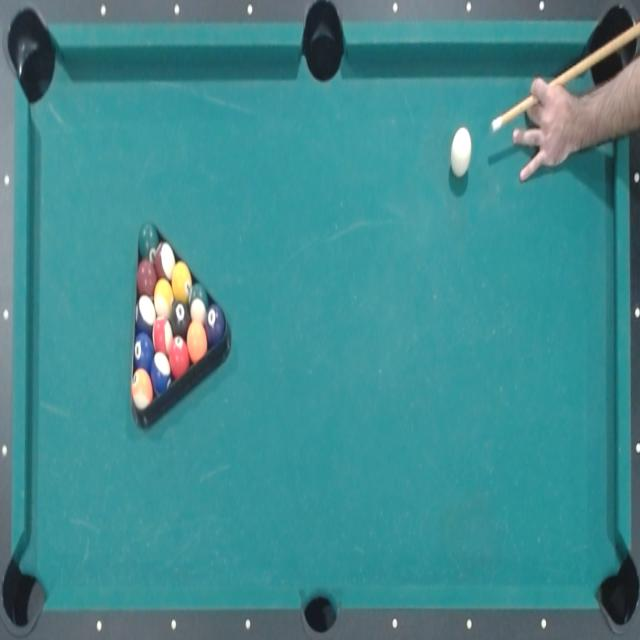black_8ball: (170, 299, 189, 339)
blue_solid: (133, 331, 154, 371)
blue_stripe: (149, 351, 172, 399)
cue_ball: (448, 122, 474, 182)
cue_body: (507, 8, 640, 141)
cue_tip: (489, 114, 503, 136)
green_solid: (136, 222, 160, 260)
green_stripe: (188, 282, 210, 323)
maroon_solid: (135, 262, 159, 298)
maroon_stripe: (156, 243, 174, 282)
orange_solid: (186, 322, 208, 361)
orange_stripe: (130, 367, 153, 408)
player_hand: (508, 76, 590, 190)
purple_solid: (205, 306, 225, 342)
purple_stripe: (133, 295, 156, 332)
red_solid: (170, 335, 190, 379)
red_stripe: (152, 315, 174, 354)
yellow_solid: (172, 262, 192, 302)
yellow_stripe: (152, 280, 175, 316)
